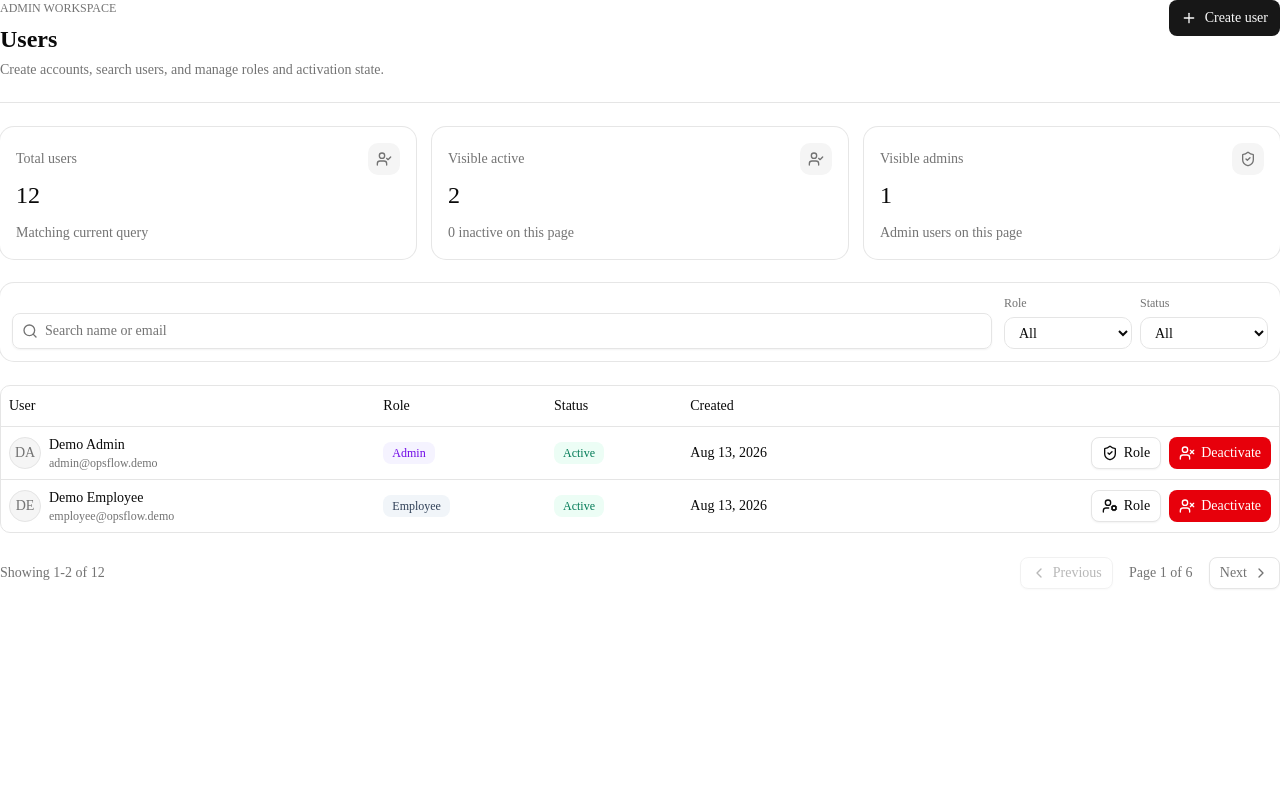
Scenario: admin user list › sends a deactivate request and renders backend safeguard errors
Step 1. Click the button with aria-label "Deactivate admin@opsflow.demo" → (1220, 452), box [1169, 436, 1271, 468]
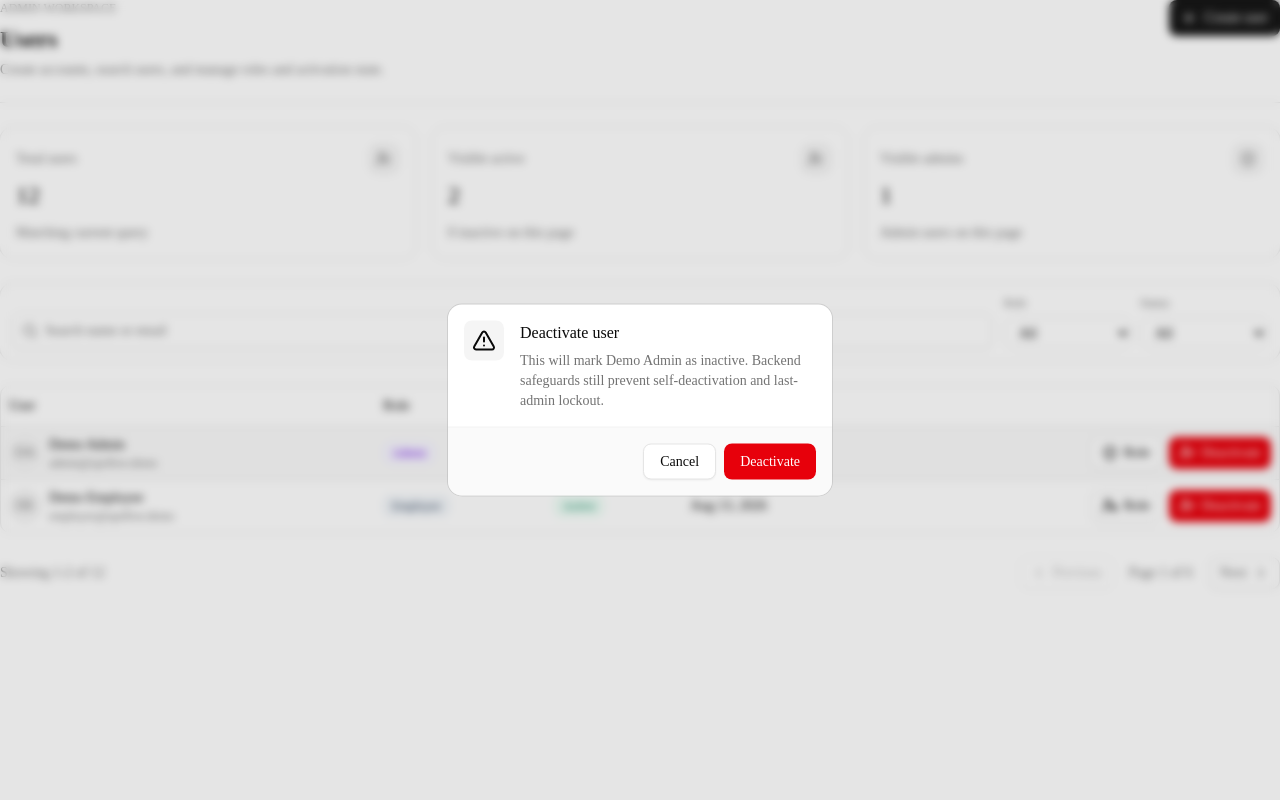
Step 2. Click the button "Deactivate" → (770, 462), box [724, 444, 816, 480]
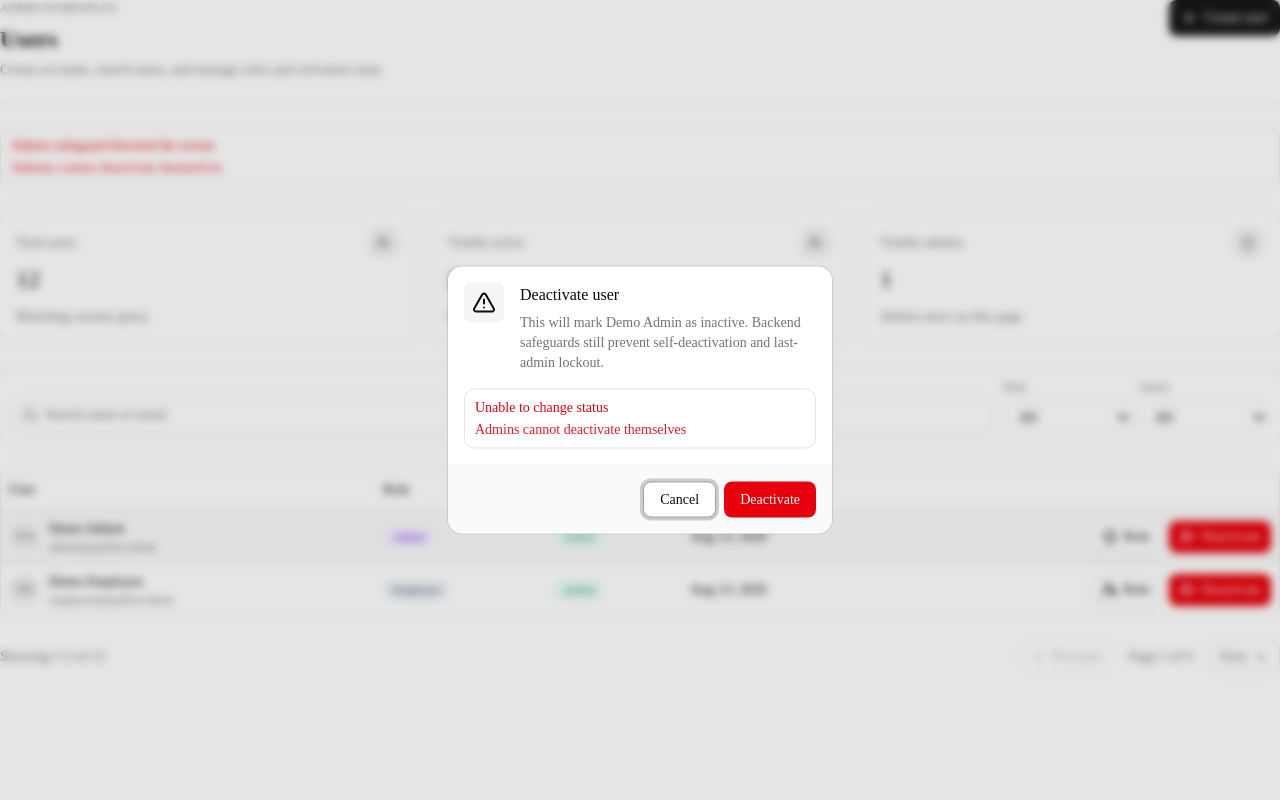
Check: the text "Admins cannot deactivate themselves" is shown 2 times, box [11, 160, 222, 175]; [475, 422, 686, 436]
